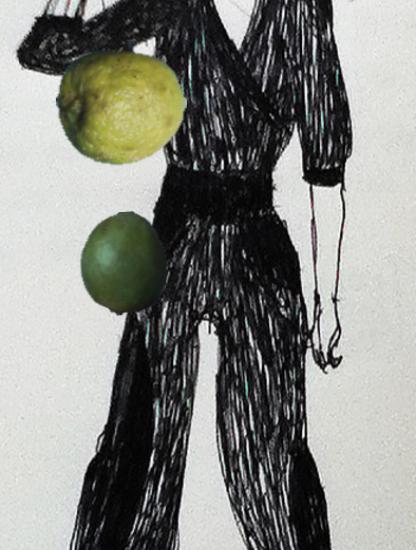Limes: (56, 37, 187, 168)
Mango: (72, 212, 176, 316)
